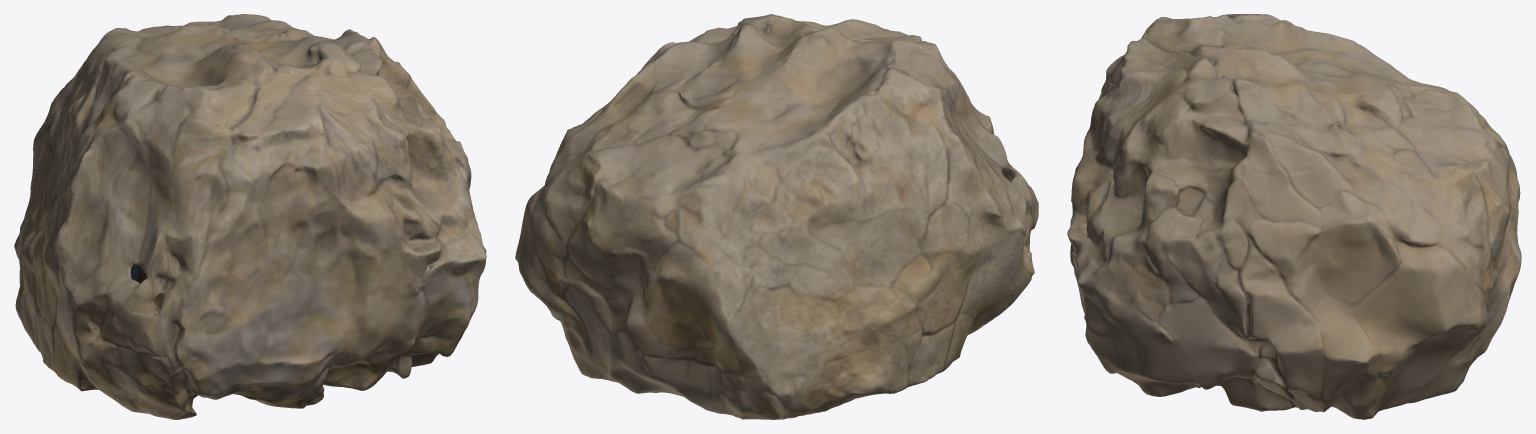
File: Stone Field 2 (1).fbx
The picture shows the model from 3 angles, left to right: view 1: azimuth 30°, elevation 25°; view 2: azimuth 150°, elevation 25°; view 3: azimuth 270°, elevation 25°; orthographic projection. The views are drawn at different scales.
Visible parts, largest first — view 1: Mesh_0; view 2: Mesh_0; view 3: Mesh_0.
Boxes of the visible parts, x1,y1,x2,y2 form: Mesh_0: (14, 14, 486, 419); Mesh_0: (515, 14, 1038, 419); Mesh_0: (1067, 14, 1521, 419).
Bounding box in the file's own units: 201 × 138 × 197.
1 material, 1 textured.
